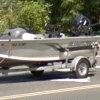Boat: (3, 24, 94, 83)
